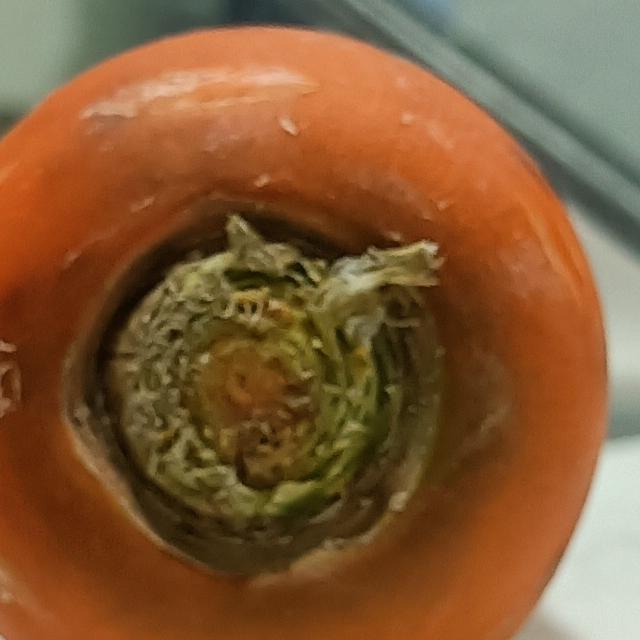carrot: (1, 17, 614, 640)
